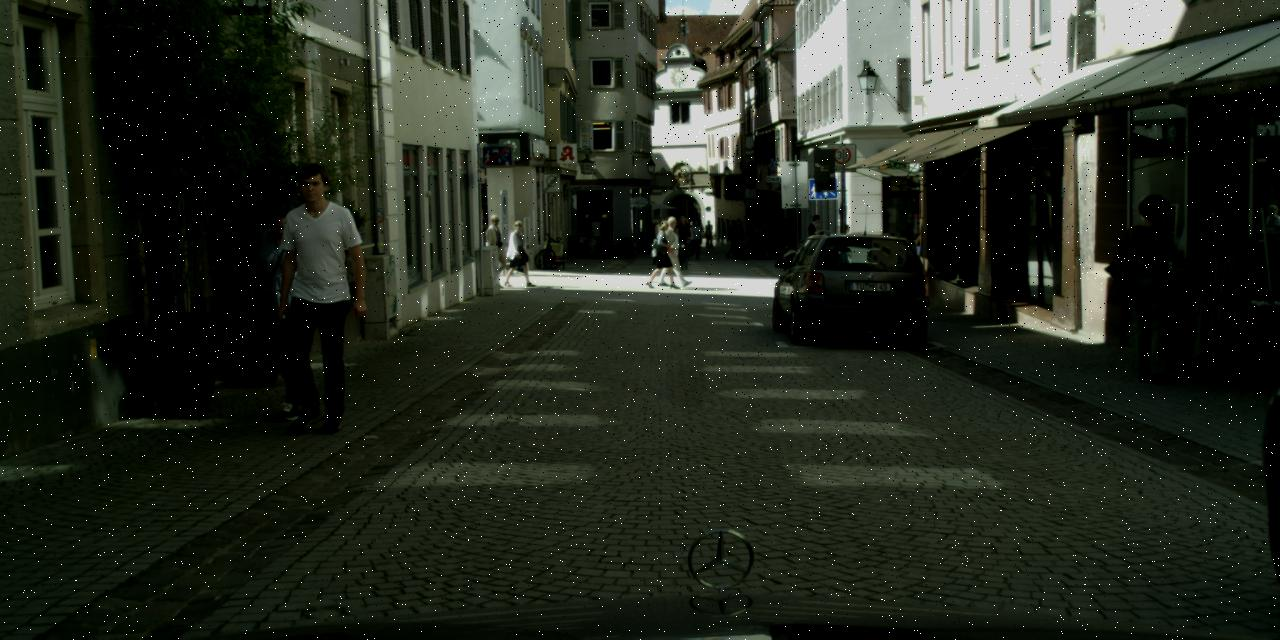ped: (262, 164, 370, 426), (245, 198, 333, 413), (1116, 194, 1192, 380), (890, 227, 919, 301), (660, 216, 689, 286), (649, 219, 677, 288), (480, 214, 508, 282), (504, 220, 530, 284), (804, 213, 826, 266), (674, 216, 691, 260), (762, 216, 778, 257), (754, 219, 770, 258), (653, 217, 668, 257), (687, 218, 702, 258), (772, 220, 787, 257), (725, 221, 739, 256), (748, 224, 762, 258), (731, 226, 742, 256), (703, 219, 714, 247), (694, 220, 704, 248), (733, 219, 743, 246), (687, 220, 695, 240)
